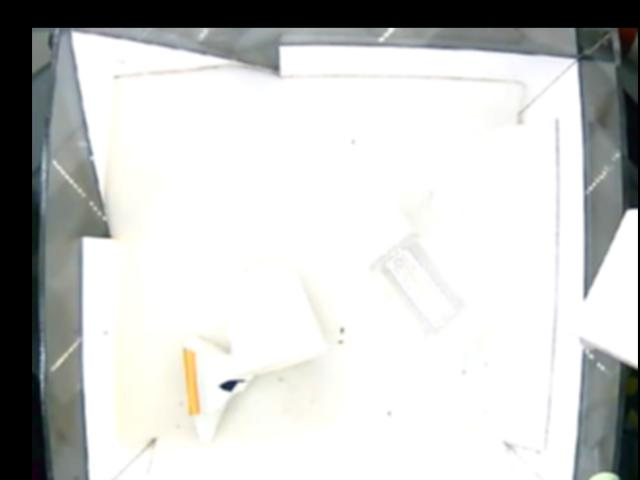Bottle: (347, 205, 469, 337)
China: (184, 343, 253, 441)
Cup: (226, 259, 329, 378)
